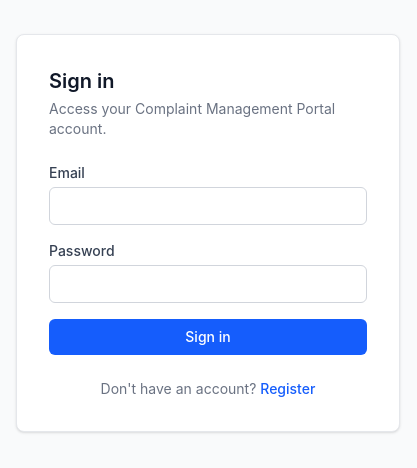
LoginPage › falls back to a generic error message when the API gives no message
Step 1. Type "citizen@example.com" into the field labelled "Email" → (208, 206), box [49,187,367,225]
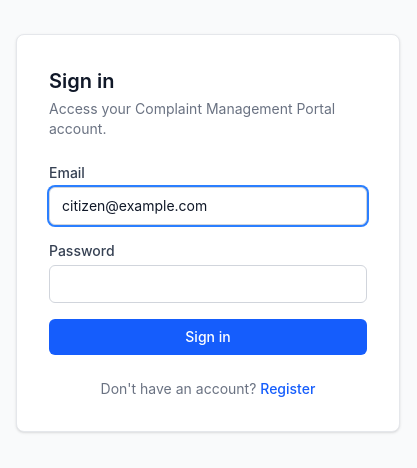
Step 2. Type "whatever123" into the password field labelled "Password" → (208, 284), box [49,265,367,303]
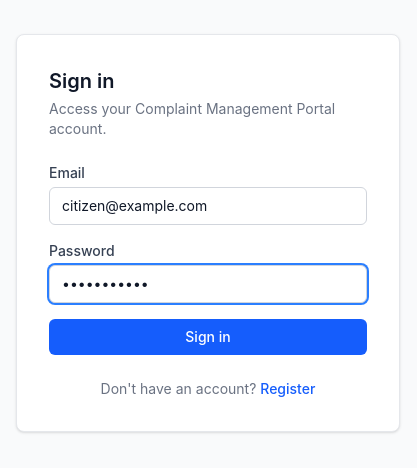
Step 3. Click the button "Sign in" → (208, 337), box [49,319,367,355]
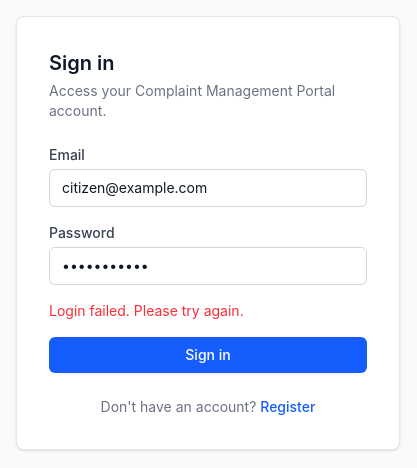
Check: the text "Login failed. Please try again." is shown, box [49,302,244,319]
